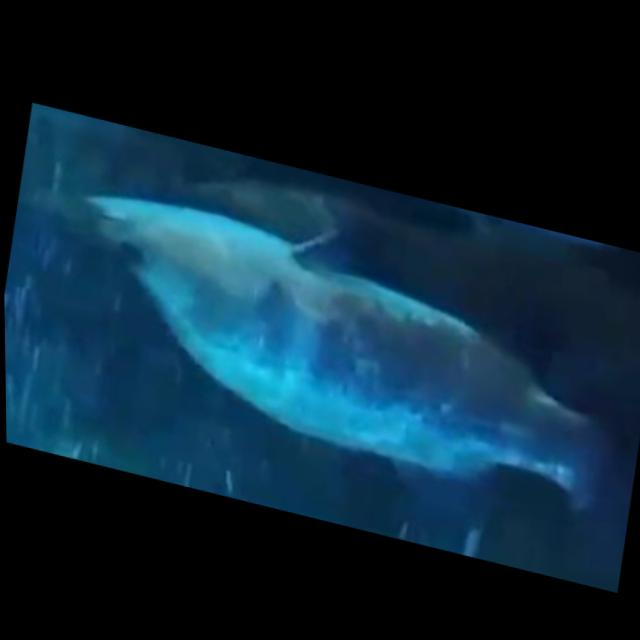Seabass: (39, 164, 640, 581)
